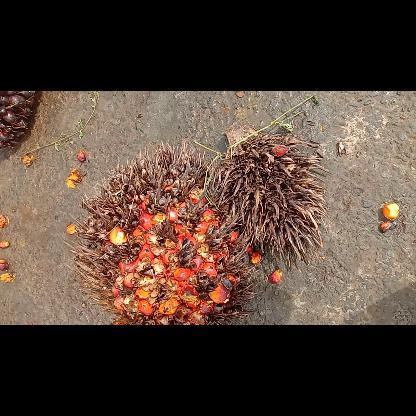Janjang kosong: (215, 119, 331, 270)
Terlalu masak: (66, 140, 258, 324)
